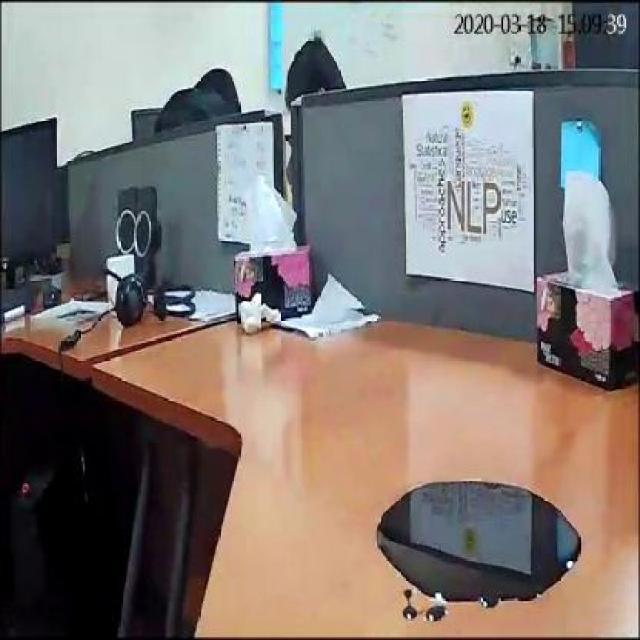spill: (380, 474, 578, 606)
